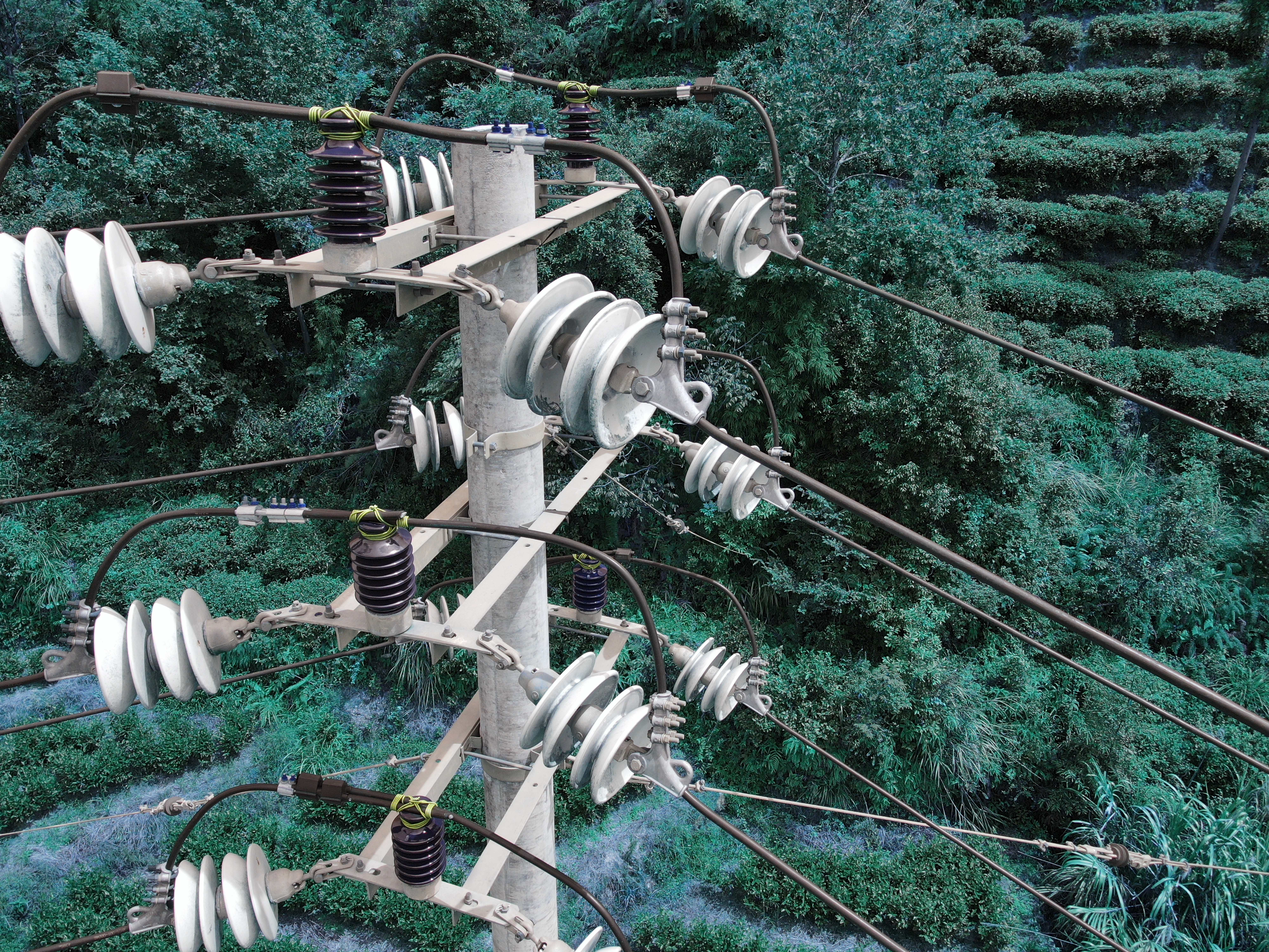severe_soiling_no_discharge_whole: (496, 271, 674, 450), (3, 214, 193, 369), (518, 650, 668, 809), (91, 580, 246, 713), (671, 175, 771, 278), (677, 432, 776, 526), (673, 636, 754, 725)
